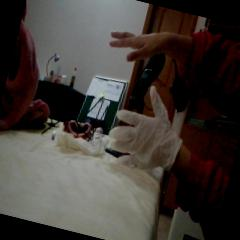gloved: (101, 80, 190, 181)
not-gloved: (105, 17, 187, 74)
